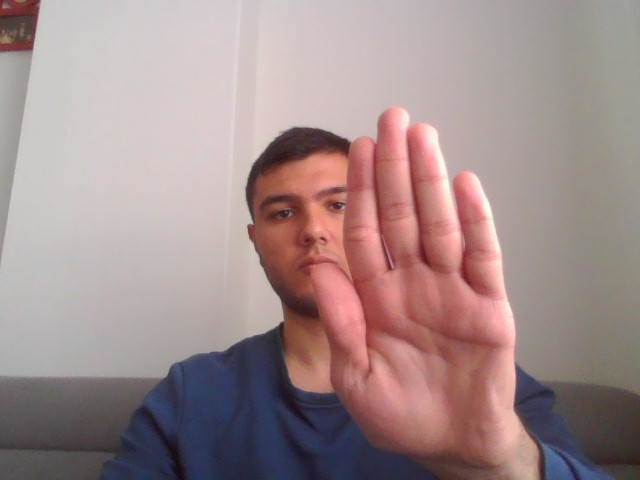Hello: (311, 101, 571, 475)
